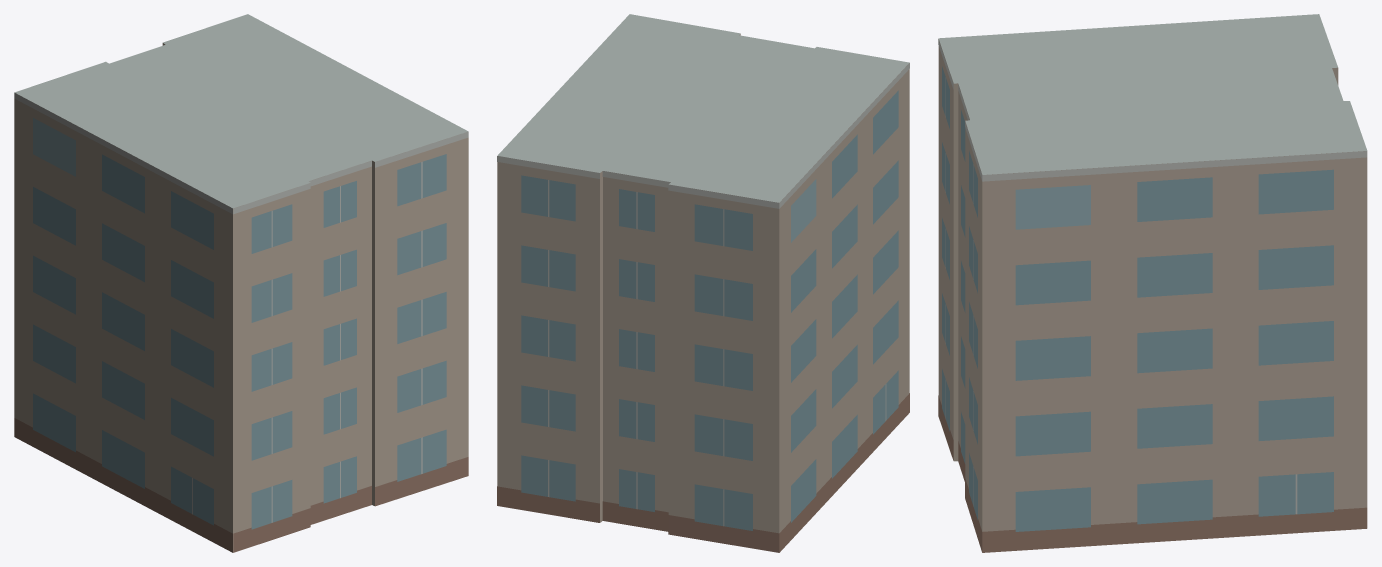
The model's file is survey-upis-32837526.glb.
3 views of the same model, side by side, from view 1: azimuth 30°, elevation 25°; view 2: azimuth 150°, elevation 25°; view 3: azimuth 270°, elevation 25° (orthographic). The views are drawn at different scales.
Visible parts, largest first — view 1: survey-upis-32837526.tmp; view 2: survey-upis-32837526.tmp; view 3: survey-upis-32837526.tmp.
Boxes of the visible parts, bbox=[...] form: survey-upis-32837526.tmp: bbox=[14, 14, 468, 552]; survey-upis-32837526.tmp: bbox=[497, 14, 909, 552]; survey-upis-32837526.tmp: bbox=[938, 14, 1367, 552].
Bounding box in the file's own units: 12.85 × 14.05 × 14.47.
